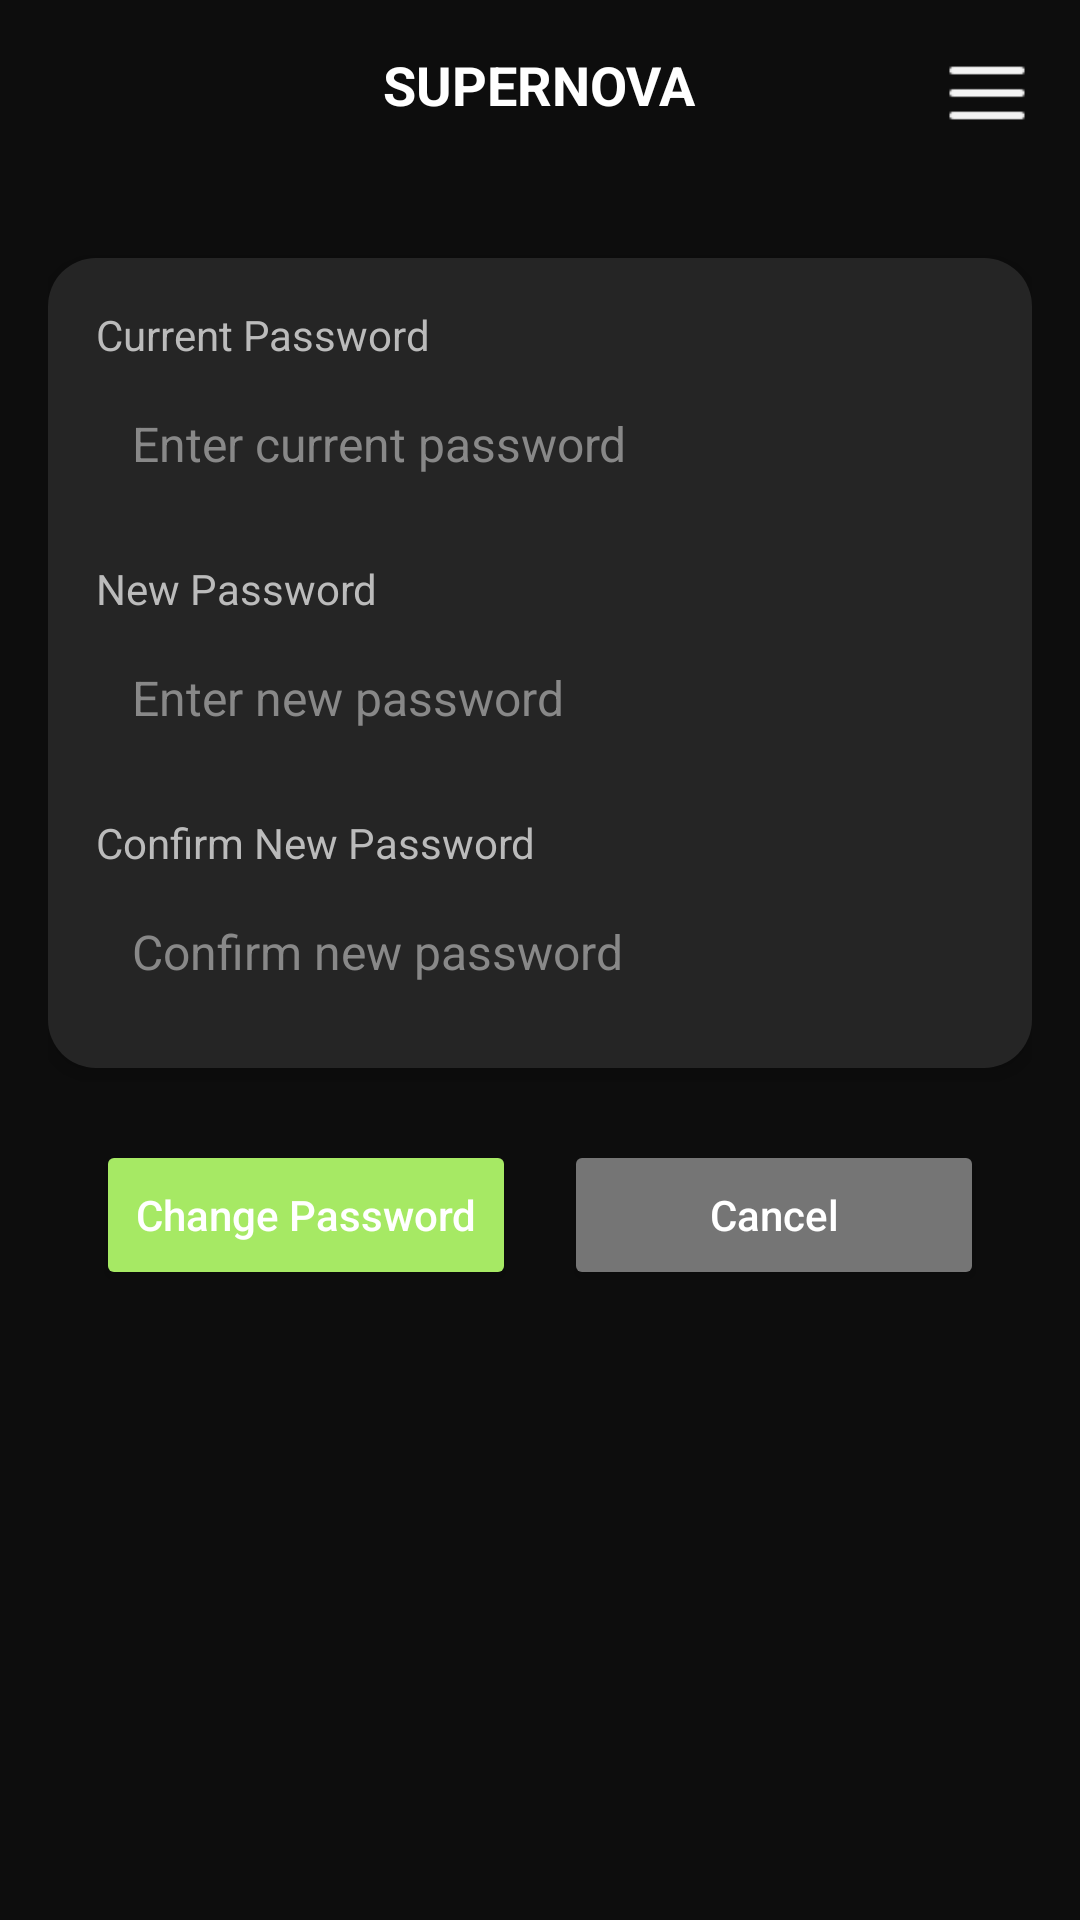

Point at icon controls on the screen. Image size 1080 × 1920, points as (x=x, y=y).
Menu: (x=987, y=93)
